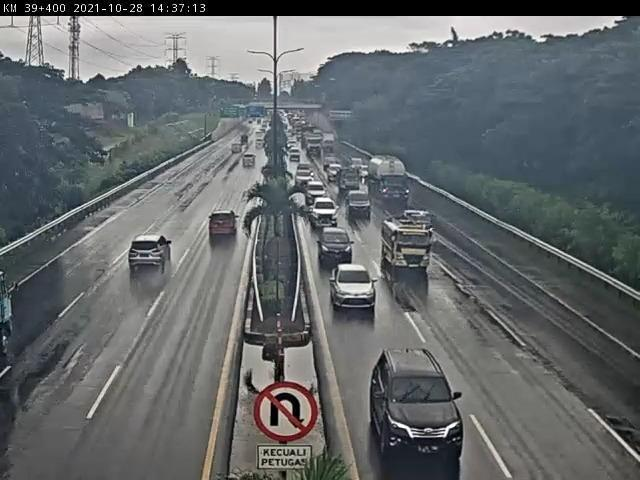car: (370, 346, 462, 462), (331, 263, 375, 308), (126, 233, 173, 271), (318, 228, 353, 267), (400, 208, 439, 239), (209, 209, 239, 238), (312, 199, 339, 228), (347, 191, 372, 219), (305, 178, 325, 202), (295, 169, 313, 185), (327, 163, 340, 181), (243, 156, 257, 171), (290, 147, 301, 160), (232, 144, 243, 155)
truck: (381, 217, 429, 275), (1, 267, 29, 358), (370, 157, 413, 206), (336, 168, 363, 194)
